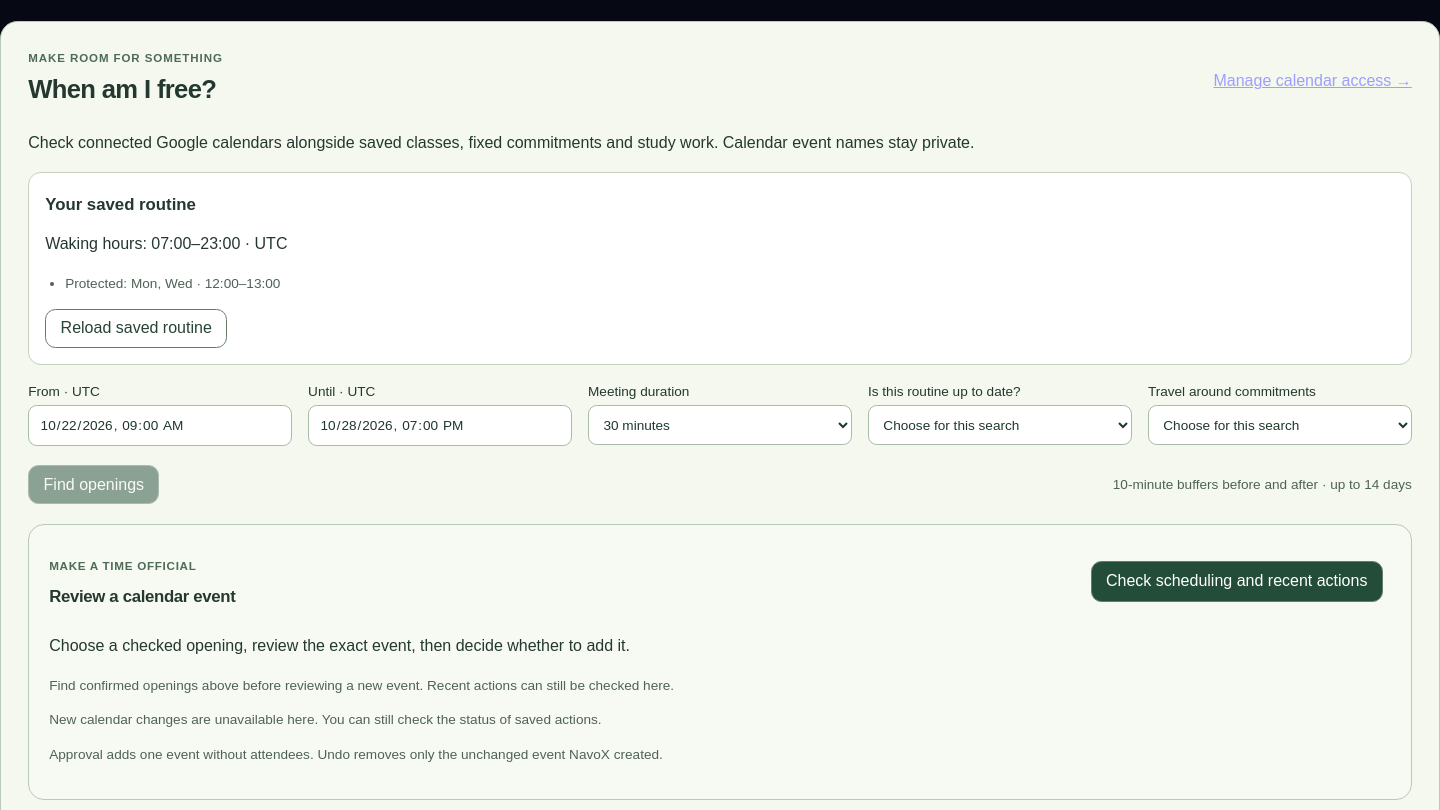
Test case: private calendar connection and availability screens › aborts a pending provider read and ignores its late response after account revocation
The width and height of the screenshot is (1440, 810).
Select "Yes, use these hours" in the dropdown labelled "Is this routine up to date?" at point(1000, 425), box [868,405,1132,445]
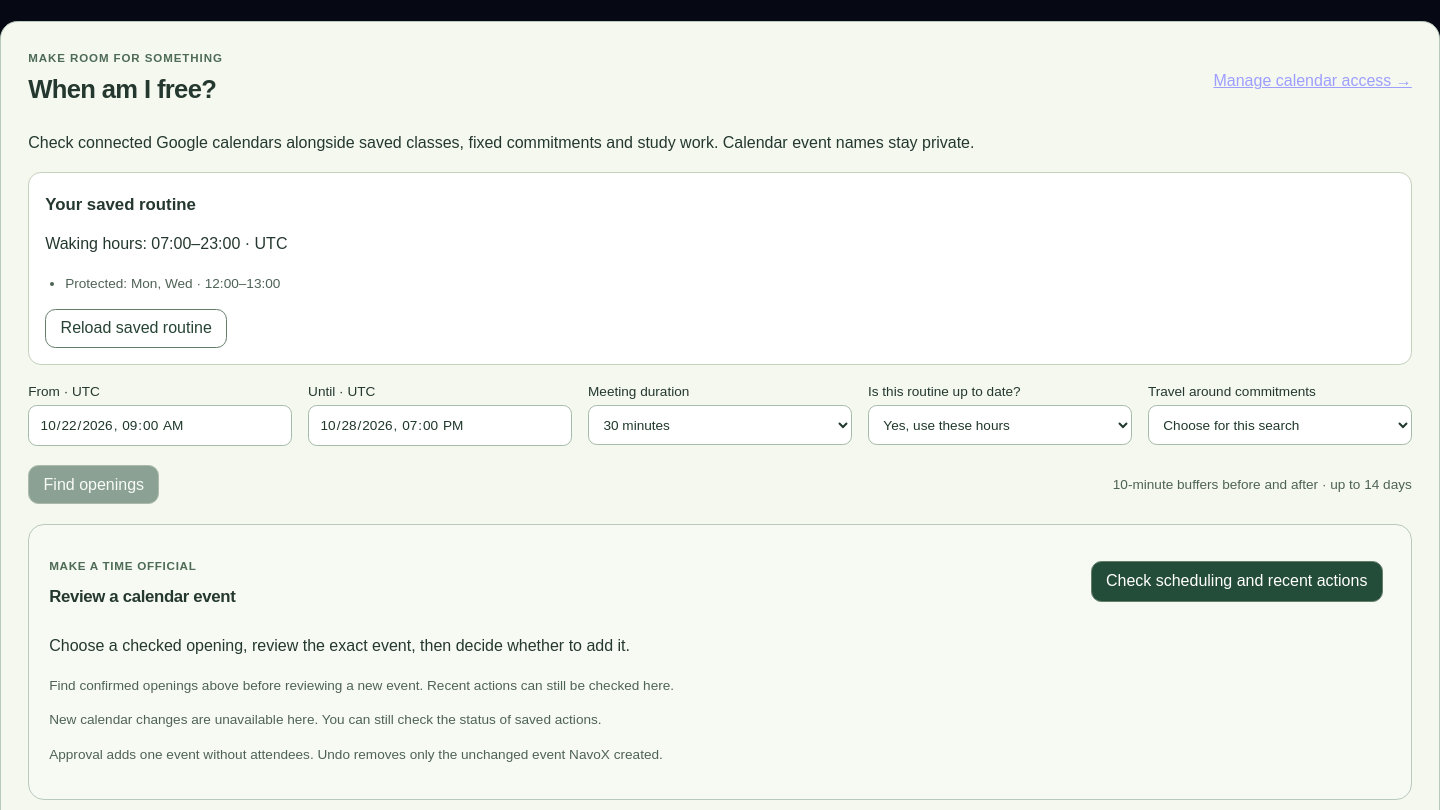
Select "Assume no extra travel for this search" in the dropdown labelled "Travel around commitments" at point(1280, 425), box [1148,405,1412,445]
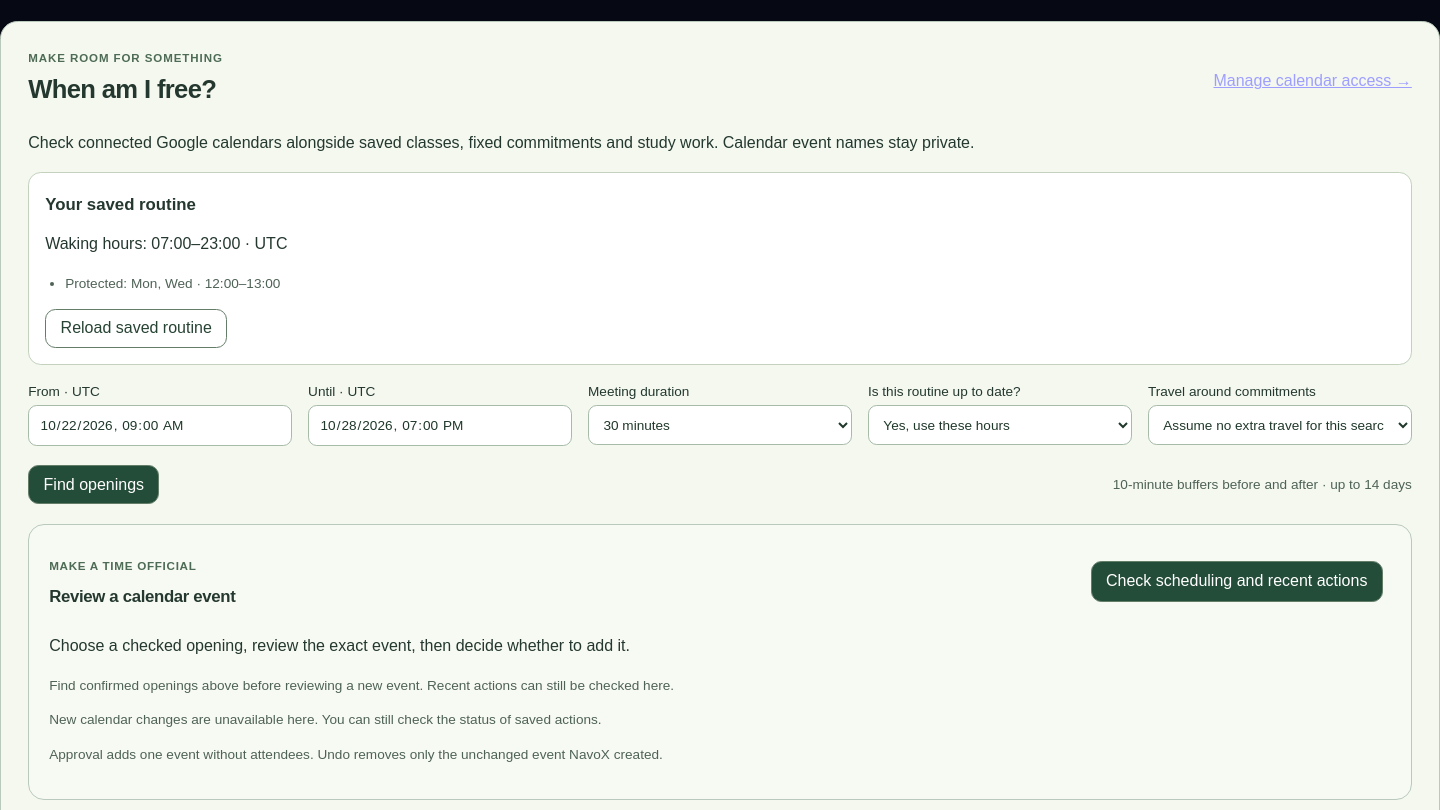
Click the button "Find openings" at point(94, 484), box [28,465,160,504]
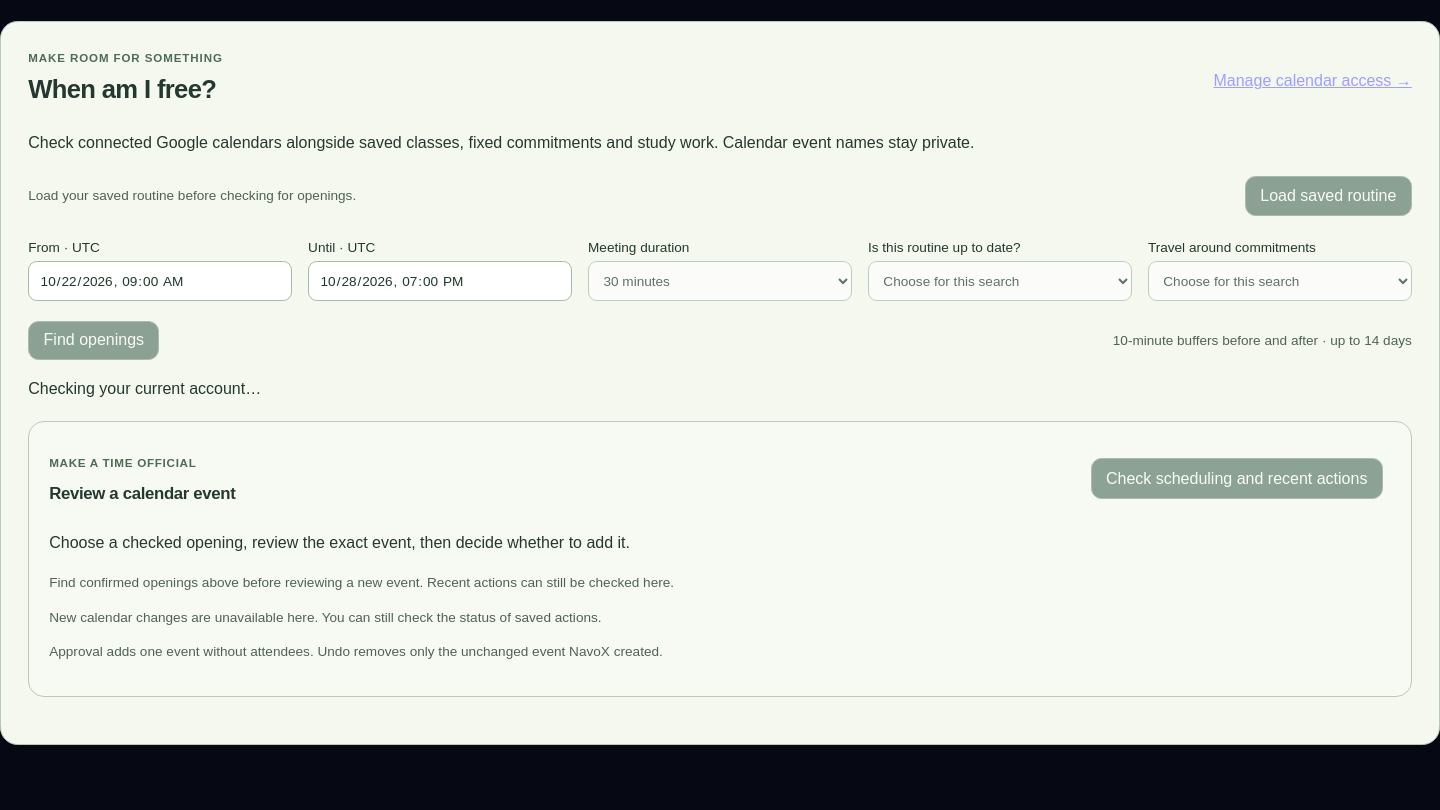
Check: the text "Your saved routine" is not shown
Check: the button "Find openings" is disabled, box [28,321,160,360]
